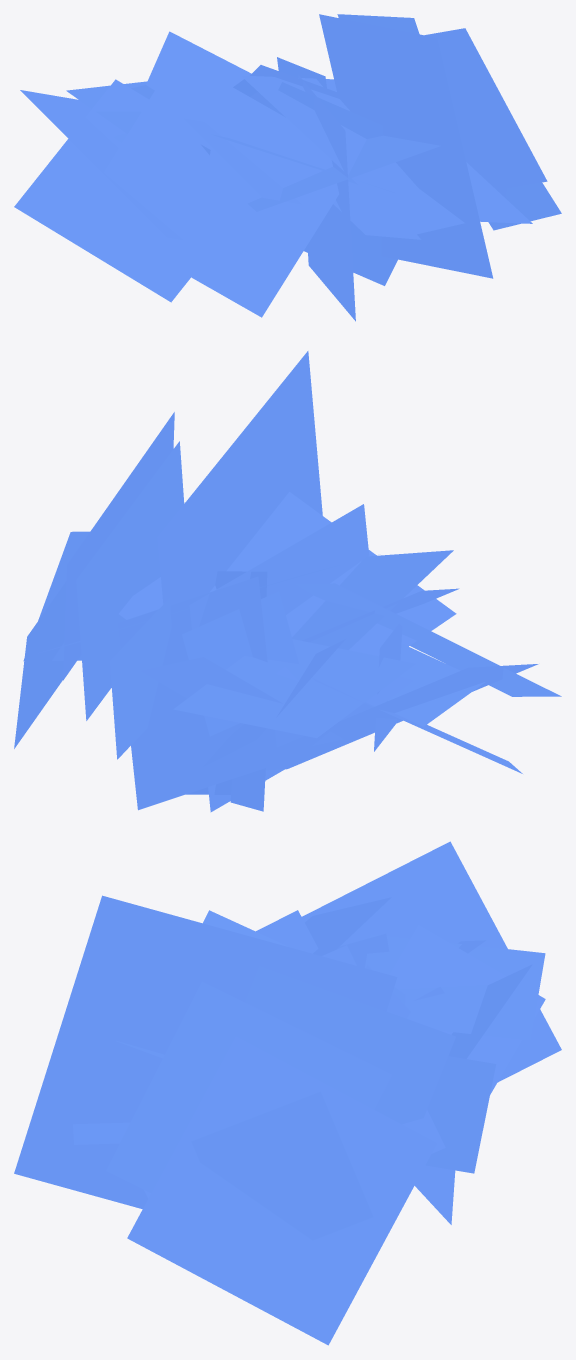
Rendered from ENV_Nebula_Blue_01.glb.
3 renders of one model, top to bottom at view 1: azimuth 30°, elevation 25°; view 2: azimuth 150°, elevation 25°; view 3: azimuth 270°, elevation 25°, orthographic. The views are drawn at different scales.
Parts seen in each view (by area): view 1: ENV_Nebula_Blue_01_Sheet_11, ENV_Nebula_Blue_01_Sheet_24, ENV_Nebula_Blue_01_Sheet_26, ENV_Nebula_Blue_01_Sheet_01, ENV_Nebula_Blue_01_Sheet_10, ENV_Nebula_Blue_01_Sheet_06, ENV_Nebula_Blue_01_Sheet_12, ENV_Nebula_Blue_01_Sheet_16, ENV_Nebula_Blue_01_Sheet_05, ENV_Nebula_Blue_01_Sheet_14, ENV_Nebula_Blue_01_Sheet_09, ENV_Nebula_Blue_01_Sheet_17 (+7 smaller); view 2: ENV_Nebula_Blue_01_Sheet_24, ENV_Nebula_Blue_01_Sheet_20, ENV_Nebula_Blue_01_Sheet_15, ENV_Nebula_Blue_01_Sheet_25, ENV_Nebula_Blue_01_Sheet_05, ENV_Nebula_Blue_01_Sheet_06, ENV_Nebula_Blue_01_Sheet_23, ENV_Nebula_Blue_01_Sheet_12, ENV_Nebula_Blue_01_Sheet_18, ENV_Nebula_Blue_01_Sheet_01, ENV_Nebula_Blue_01_Sheet_13, ENV_Nebula_Blue_01_Sheet_11 (+11 smaller); view 3: ENV_Nebula_Blue_01_Sheet_24, ENV_Nebula_Blue_01_Sheet_04, ENV_Nebula_Blue_01_Sheet_01, ENV_Nebula_Blue_01_Sheet_21, ENV_Nebula_Blue_01_Sheet_25, ENV_Nebula_Blue_01_Sheet_12, ENV_Nebula_Blue_01_Sheet_15, ENV_Nebula_Blue_01_Sheet_08, ENV_Nebula_Blue_01_Sheet_18, ENV_Nebula_Blue_01_Sheet_11, ENV_Nebula_Blue_01_Sheet_14, ENV_Nebula_Blue_01_Sheet_20 (+5 smaller).
Part boxes in pixels (<box>): ENV_Nebula_Blue_01_Sheet_11: <box>78,55,348,317</box>; ENV_Nebula_Blue_01_Sheet_24: <box>319,14,493,278</box>; ENV_Nebula_Blue_01_Sheet_26: <box>14,79,190,302</box>; ENV_Nebula_Blue_01_Sheet_01: <box>425,28,547,190</box>; ENV_Nebula_Blue_01_Sheet_10: <box>241,75,532,223</box>; ENV_Nebula_Blue_01_Sheet_06: <box>298,74,355,321</box>; ENV_Nebula_Blue_01_Sheet_12: <box>20,90,183,240</box>; ENV_Nebula_Blue_01_Sheet_16: <box>269,82,397,285</box>; ENV_Nebula_Blue_01_Sheet_05: <box>247,135,440,211</box>; ENV_Nebula_Blue_01_Sheet_14: <box>146,31,251,90</box>; ENV_Nebula_Blue_01_Sheet_09: <box>183,118,302,204</box>; ENV_Nebula_Blue_01_Sheet_17: <box>356,188,497,235</box>; ENV_Nebula_Blue_01_Sheet_24: <box>157,351,322,605</box>; ENV_Nebula_Blue_01_Sheet_20: <box>117,576,278,810</box>; ENV_Nebula_Blue_01_Sheet_15: <box>173,639,415,738</box>; ENV_Nebula_Blue_01_Sheet_25: <box>76,441,184,720</box>; ENV_Nebula_Blue_01_Sheet_05: <box>119,492,456,656</box>; ENV_Nebula_Blue_01_Sheet_06: <box>189,504,372,812</box>; ENV_Nebula_Blue_01_Sheet_23: <box>292,550,453,650</box>; ENV_Nebula_Blue_01_Sheet_12: <box>217,664,538,772</box>; ENV_Nebula_Blue_01_Sheet_18: <box>110,598,171,759</box>; ENV_Nebula_Blue_01_Sheet_01: <box>63,412,174,680</box>; ENV_Nebula_Blue_01_Sheet_13: <box>182,591,298,736</box>; ENV_Nebula_Blue_01_Sheet_11: <box>295,583,561,696</box>; ENV_Nebula_Blue_01_Sheet_24: <box>14,895,397,1208</box>; ENV_Nebula_Blue_01_Sheet_04: <box>127,1036,436,1345</box>; ENV_Nebula_Blue_01_Sheet_01: <box>106,981,391,1192</box>; ENV_Nebula_Blue_01_Sheet_21: <box>191,1091,373,1240</box>; ENV_Nebula_Blue_01_Sheet_25: <box>244,965,455,1124</box>; ENV_Nebula_Blue_01_Sheet_12: <box>302,841,561,1082</box>; ENV_Nebula_Blue_01_Sheet_15: <box>365,934,545,1040</box>; ENV_Nebula_Blue_01_Sheet_08: <box>389,925,545,1094</box>; ENV_Nebula_Blue_01_Sheet_18: <box>426,1056,496,1173</box>; ENV_Nebula_Blue_01_Sheet_11: <box>305,897,391,955</box>; ENV_Nebula_Blue_01_Sheet_14: <box>448,964,532,1058</box>; ENV_Nebula_Blue_01_Sheet_20: <box>367,965,455,1224</box>.
Bounding box in the file's own units: 8115 × 5411 × 7041.
